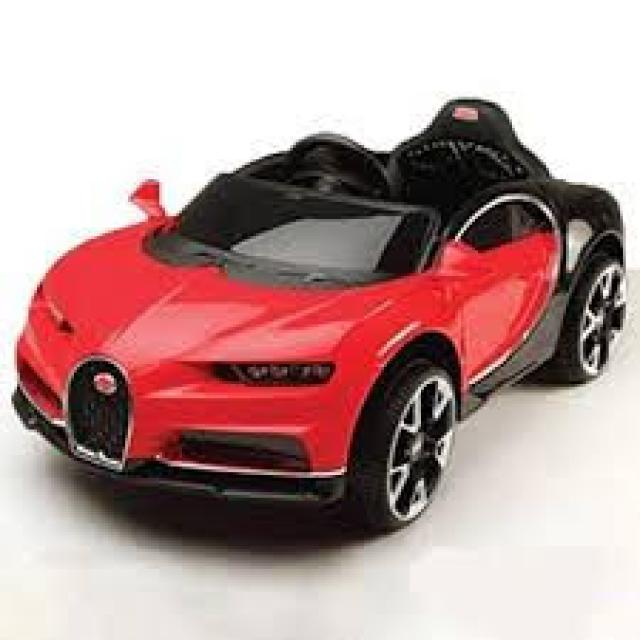Car: (8, 94, 626, 535)
